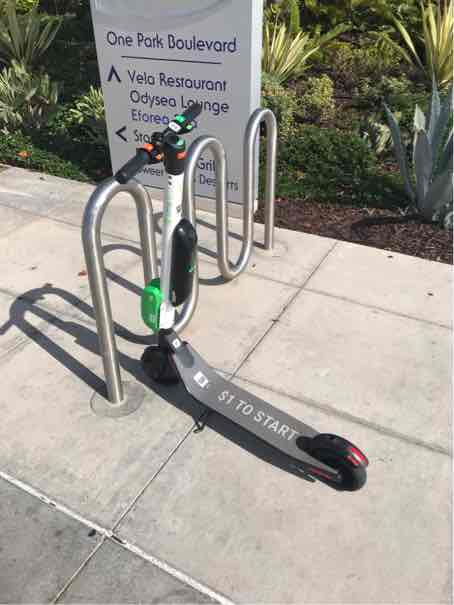scooter: (111, 85, 372, 490)
